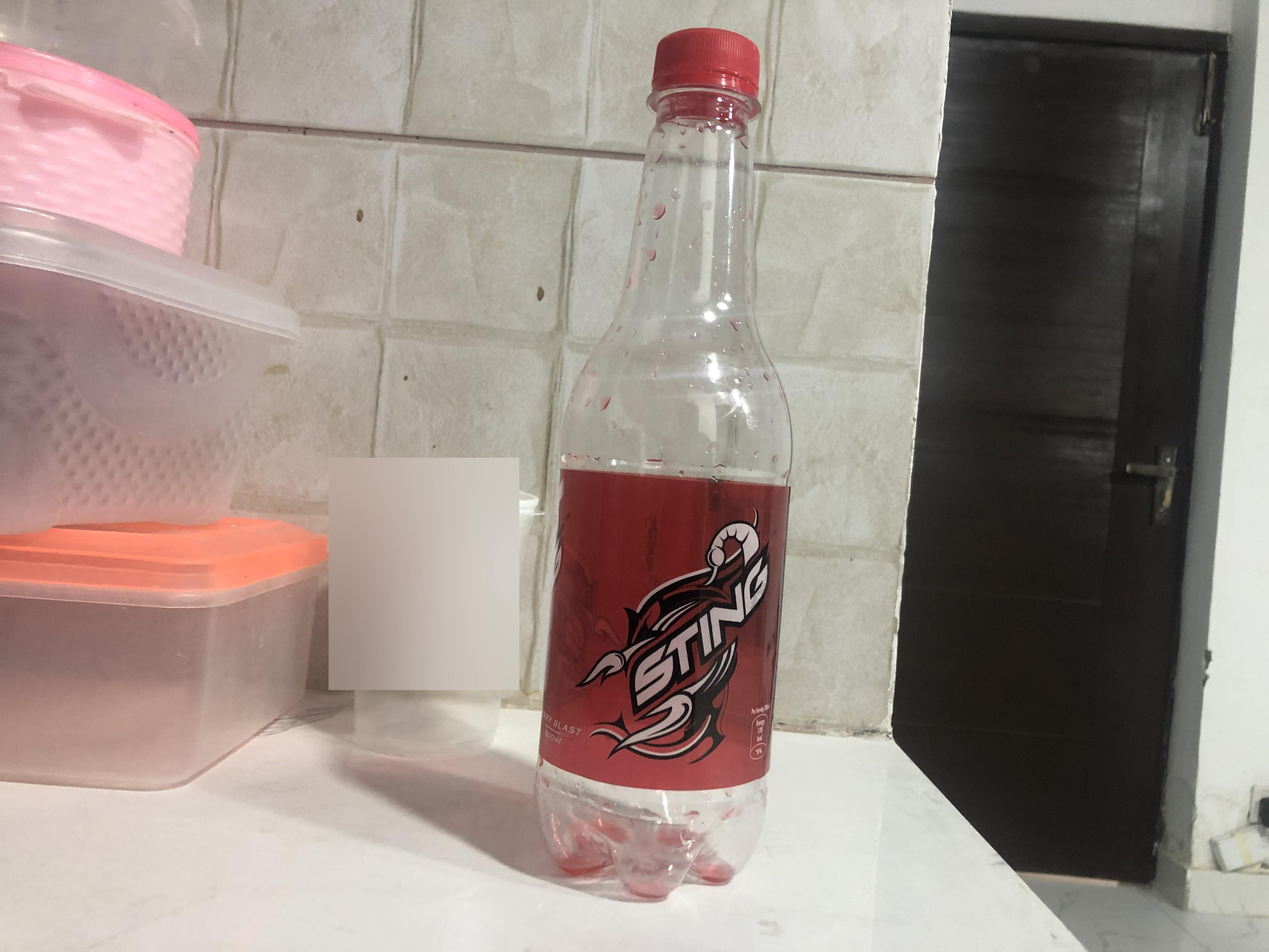bottle-plastic: (536, 24, 798, 900)
